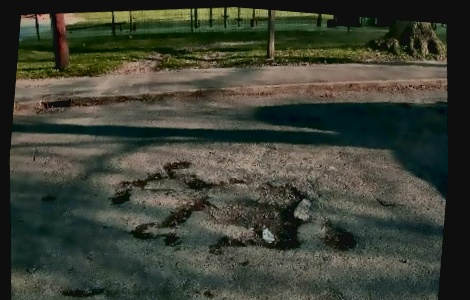pothole: (204, 169, 316, 262), (155, 191, 212, 231), (314, 218, 359, 255)
